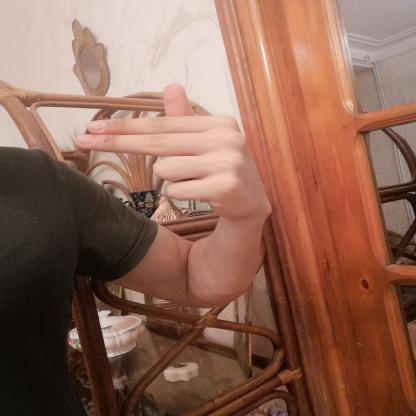GHAYN: (60, 77, 280, 230)
